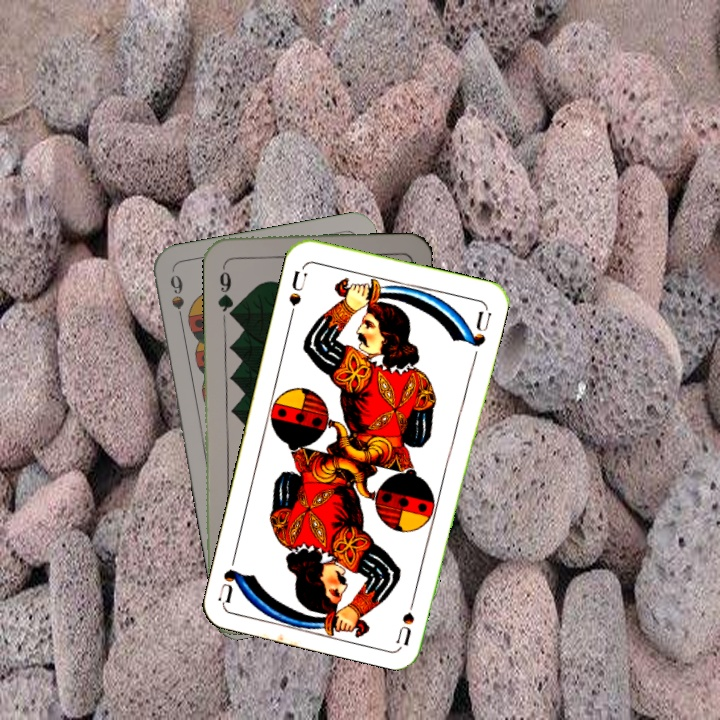G9: (213, 259, 237, 318)
S9: (166, 270, 187, 329)
SU: (393, 587, 420, 646), (284, 262, 310, 320)
